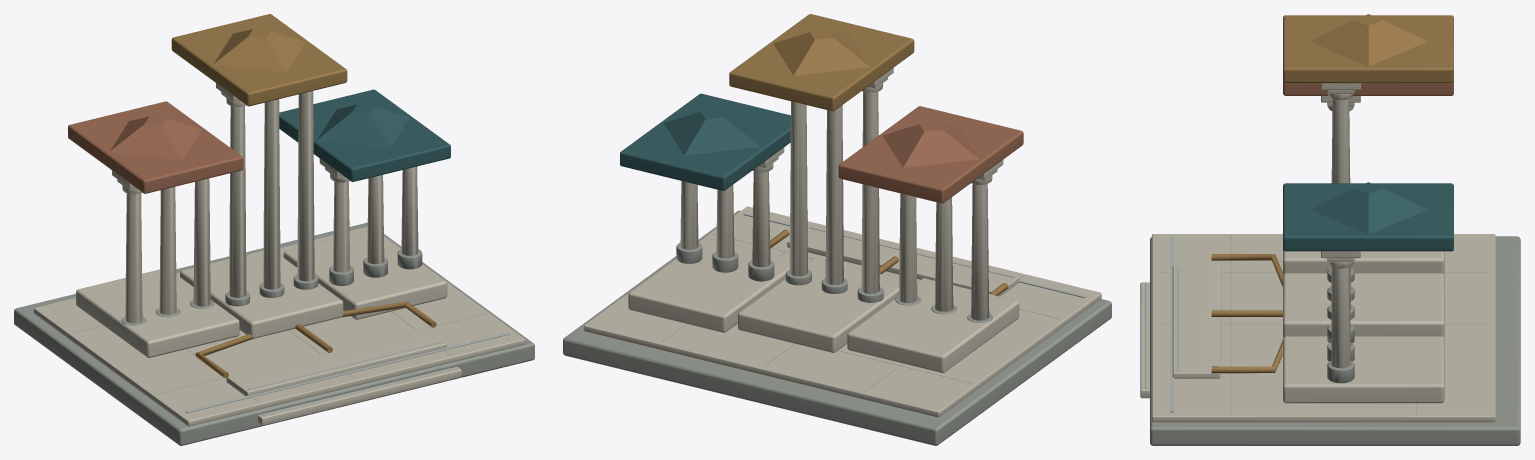
File: idea-12b4515d.glb
3 renders of one model, left to right at view 1: azimuth 30°, elevation 25°; view 2: azimuth 150°, elevation 25°; view 3: azimuth 270°, elevation 25°, orthographic. The views are drawn at different scales.
Visible parts, largest first — view 1: Guru-selection Engine; view 2: Guru-selection Engine; view 3: Guru-selection Engine.
Part boxes in pixels (x1,y1,x2,y2): Guru-selection Engine: [14, 14, 534, 445]; Guru-selection Engine: [563, 14, 1111, 445]; Guru-selection Engine: [1140, 14, 1520, 445].
Bounding box in the file's own units: 4.8 × 3.84 × 4.
